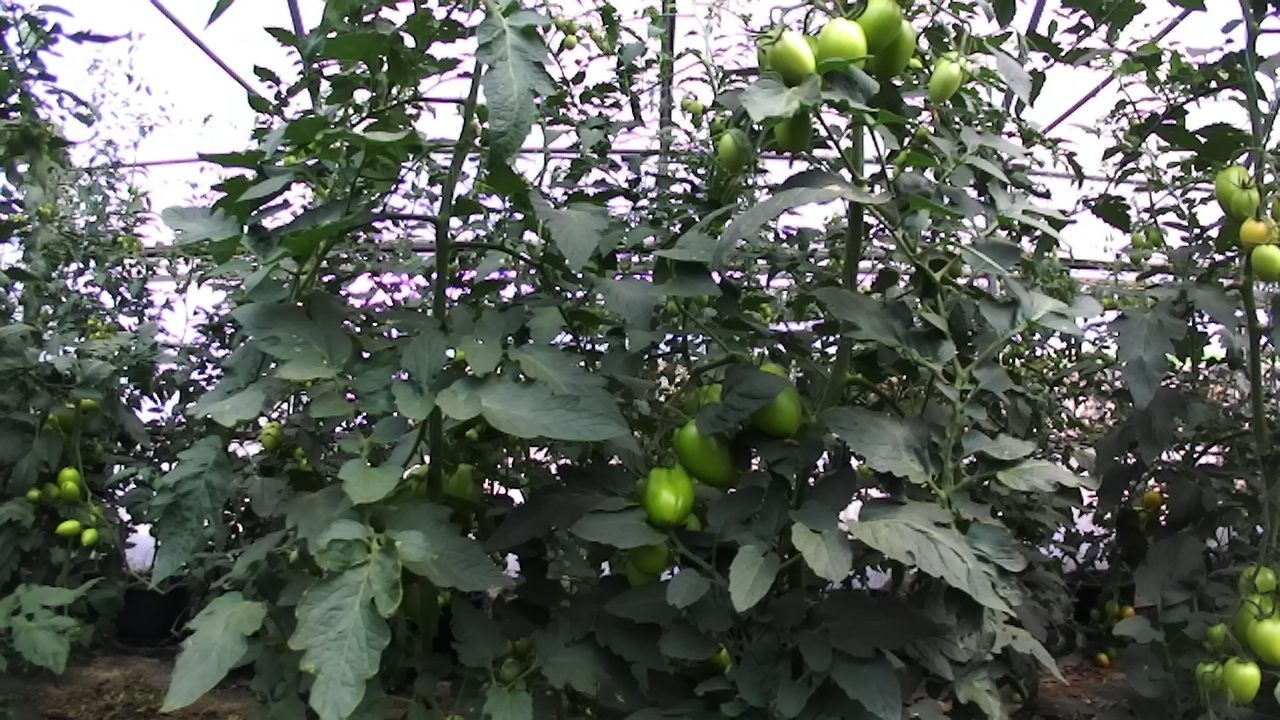tomato: (630, 442, 714, 547), (661, 404, 752, 498), (737, 355, 820, 451), (810, 2, 875, 91), (759, 21, 830, 100), (858, 13, 924, 86), (1205, 154, 1263, 225), (847, 0, 910, 65), (706, 119, 766, 183), (765, 98, 823, 163), (1216, 648, 1267, 711), (1231, 551, 1280, 612), (1237, 606, 1280, 671), (925, 54, 968, 116), (1232, 208, 1280, 258), (1221, 177, 1267, 225), (1195, 612, 1241, 656), (1245, 238, 1280, 289), (51, 462, 87, 500), (70, 520, 106, 554), (51, 514, 87, 544), (55, 475, 85, 507), (259, 422, 284, 452), (21, 480, 46, 506)
